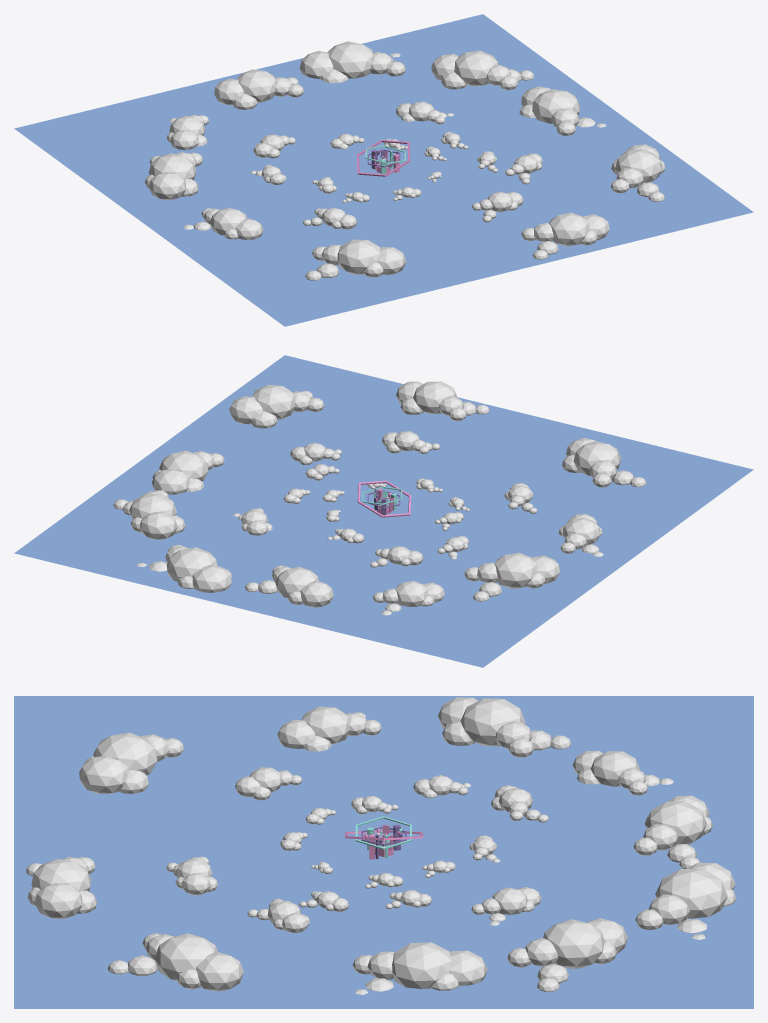
Rendered from arena_reworked.fbx.
The picture shows the model from 3 angles, top to bottom: view 1: azimuth 30°, elevation 25°; view 2: azimuth 150°, elevation 25°; view 3: azimuth 270°, elevation 25°; orthographic projection. The views are drawn at different scales.
Visible parts, largest first — view 1: Plane, Icosphere.012, Icosphere.024, Icosphere.025, Icosphere.008, Icosphere.009, Icosphere.007, Icosphere.013, Icosphere.014, Icosphere.015, Icosphere.010, Icosphere.011 (+4 smaller); view 2: Plane, Icosphere.014, Icosphere.013, Icosphere.012, Icosphere.024, Icosphere.008, Icosphere.025, Icosphere.007, Icosphere.009, Icosphere.010, Icosphere.015, Icosphere.011 (+4 smaller); view 3: Plane, Icosphere.025, Icosphere.007, Icosphere.013, Icosphere.014, Icosphere.012, Icosphere.024, Icosphere.009, Icosphere.008, Icosphere.015, Icosphere.010, Icosphere.001 (+9 smaller).
Boxes of the visible parts, x1,y1,x2,y2 form: Plane: (14,14,753,326); Icosphere.012: (299,41,405,83); Icosphere.024: (305,239,406,280); Icosphere.025: (431,50,533,90); Icosphere.008: (521,212,609,259); Icosphere.009: (214,69,303,109); Icosphere.007: (519,86,605,135); Icosphere.013: (611,144,665,201); Icosphere.014: (144,152,203,200); Icosphere.015: (183,207,263,240); Icosphere.010: (166,114,208,149); Icosphere.011: (472,191,523,222); Plane: (14,355,753,667); Icosphere.014: (464,552,559,601); Icosphere.013: (229,384,324,428); Icosphere.012: (137,544,231,592); Icosphere.024: (562,438,646,487); Icosphere.008: (396,381,489,420); Icosphere.025: (113,490,185,539); Icosphere.007: (151,450,224,494); Icosphere.009: (245,565,333,607); Icosphere.010: (373,580,444,615); Icosphere.015: (558,513,603,556); Icosphere.011: (382,431,439,454); Plane: (14,696,753,1008); Icosphere.025: (507,918,627,991); Icosphere.007: (352,942,487,994); Icosphere.013: (107,933,243,991); Icosphere.014: (438,697,571,757); Icosphere.012: (635,862,736,939); Icosphere.024: (79,732,183,793); Icosphere.009: (633,795,712,868); Icosphere.008: (26,857,96,918); Icosphere.015: (277,706,381,751); Icosphere.010: (572,751,673,795); Icosphere.001: (471,887,541,925).
Size of the model in its own units: 107 by 8.47 by 107.
